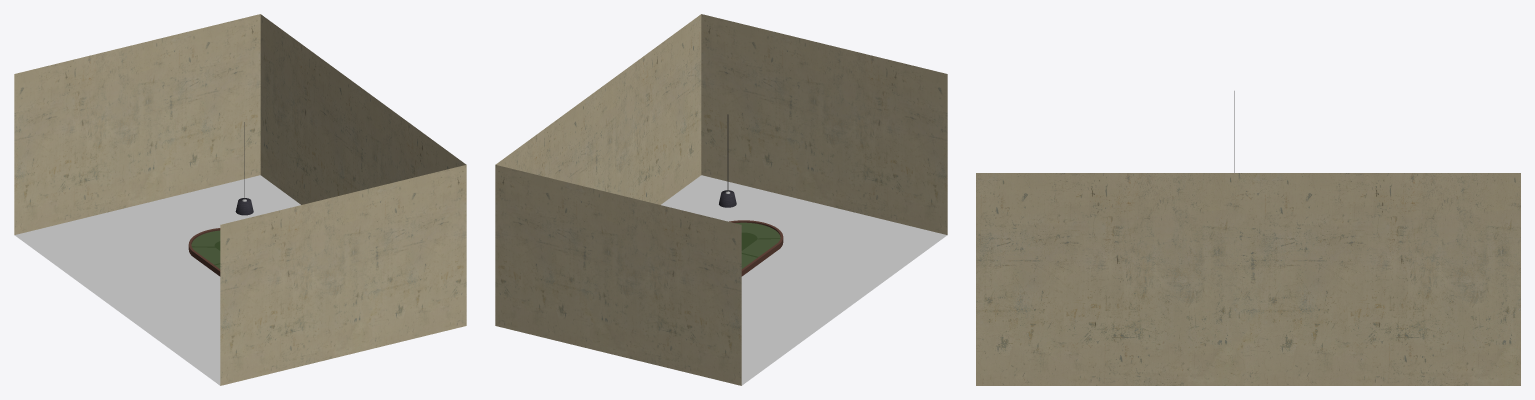
The model's file is Table4.fbx.
3 renders of one model, left to right at view 1: azimuth 30°, elevation 25°; view 2: azimuth 150°, elevation 25°; view 3: azimuth 270°, elevation 25°, orthographic. The views are drawn at different scales.
Visible parts, largest first — view 1: Plane, Cylinder.001; view 2: Plane, Cylinder.001; view 3: Plane.
Part boxes in pixels (x1,y1,x2,y2): Plane: (14, 14, 466, 385); Cylinder.001: (188, 228, 220, 276); Plane: (495, 14, 947, 385); Cylinder.001: (729, 220, 783, 276); Plane: (976, 173, 1520, 385).
Bounding box in the file's own units: 719 × 461 × 1042.
